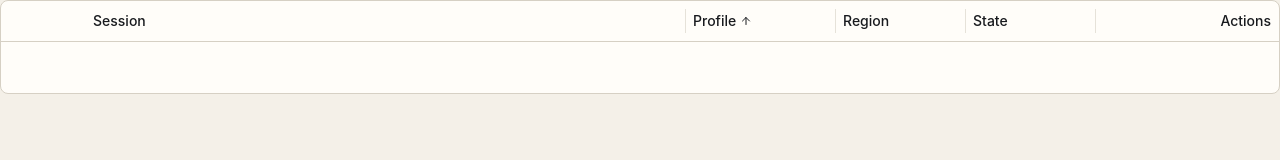
Test: SessionTable appearance › hides a column from the picker, drops its sort, and remembers it
Right-click the column heading "Session" at (385, 21), box [85,1,685,41]
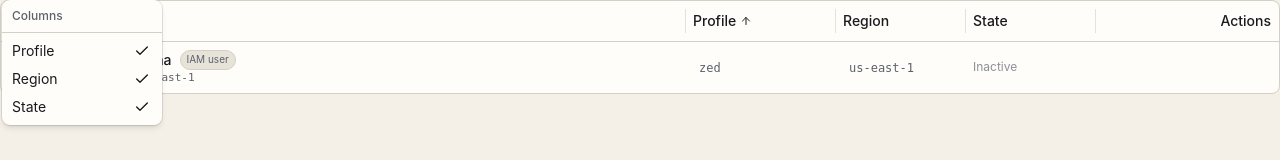
Click the menu item "Profile" at (33, 50), box [6,37,158,65]
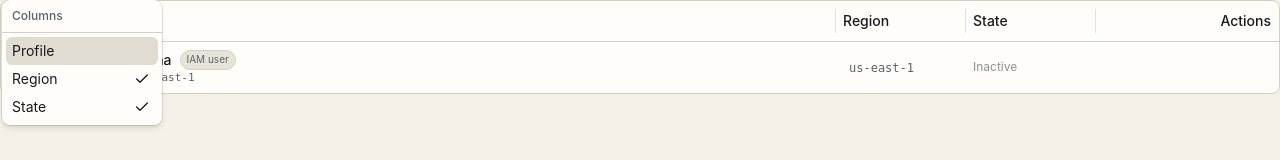
Press Escape
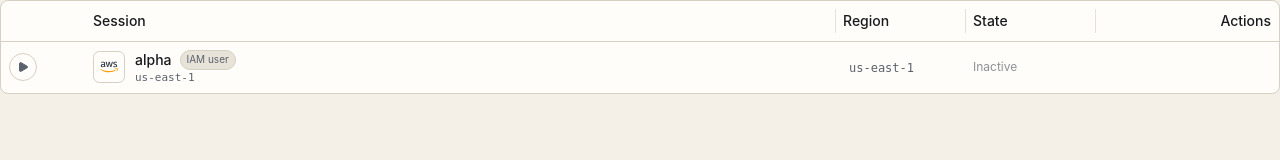
Expected: the column heading "Region" is shown, [835,1,965,41]
Expected: the menu item "Profile" is gone
